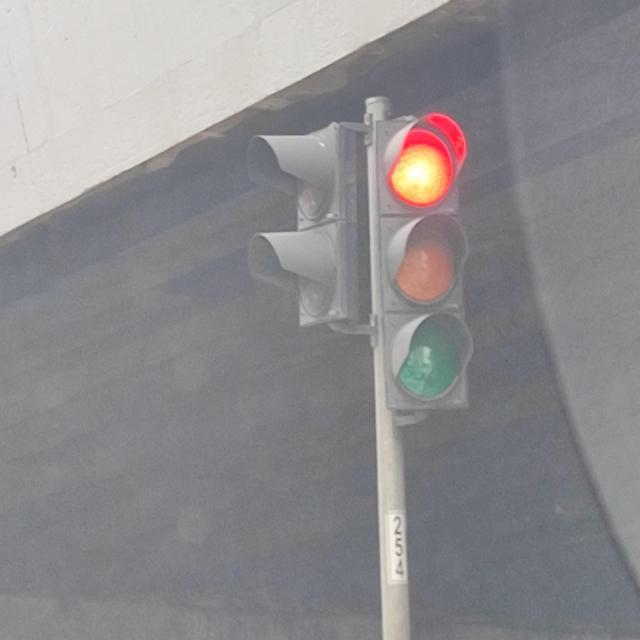Red: (384, 115, 469, 414)
